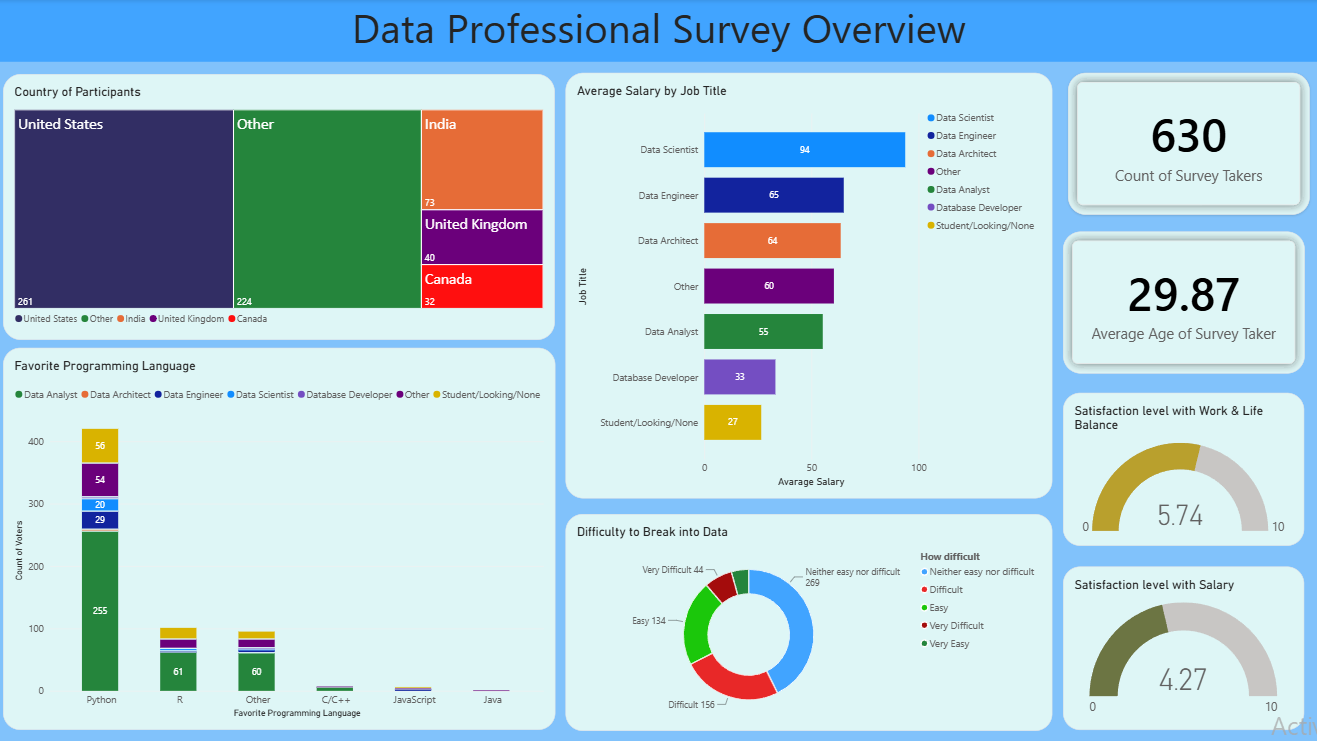

The dashboard page shown, as its layout file describes it:
{"tool":"powerbi","page":{"name":"Survey Overview","canvas":[1920,1080],"ordinal":0},"visuals":[{"type":"textbox","box":[0,0,1920.5,91.5],"z":0},{"type":"cardVisual","fields":{"Data":["Count(Data Professional Survey.Unique ID)"]},"box":[1554.3,107.9,351.4,206.4],"z":1000},{"type":"cardVisual","fields":{"Data":["Avg(Data Professional Survey.Q10 - Current Age)"]},"box":[1547.9,337.9,351,206],"z":2000},{"type":"barChart","title":"Average Salary by Job Title","fields":{"Category":["Data Professional Survey.Q1 - Which Title Best Fits your Current Role?.1"],"Series":["Data Professional Survey.Q1 - Which Title Best Fits your Current Role?.1"],"Y":["Avg(Data Professional Survey.Avarage Salary)"]},"box":[824.9,108,707,618.7],"z":3000},{"type":"columnChart","title":"Favorite Programming Language","fields":{"Category":["Data Professional Survey.Q5 - Favorite Programming Language.1"],"Series":["Data Professional Survey.Q1 - Which Title Best Fits your Current Role?.1"],"Y":["CountNonNull(Data Professional Survey.Unique ID)"]},"box":[7.5,507.5,802.5,555],"z":4000},{"type":"treemap","title":"Country of Participants","fields":{"Group":["Data Professional Survey.Q11 - Which Country do you live in?.1"],"Values":["CountNonNull(Data Professional Survey.Q11 - Which Country do you live in?.1)"]},"box":[7.5,108.3,801.7,386.7],"z":5000},{"type":"gauge","title":" Satisfaction level with Work & Life Balance","fields":{"MaxValue":["Max(Data Professional Survey.Q6 - How Happy are you in your Current Position with the following? (Work/Life Balance))2"],"MinValue":["Min(Data Professional Survey.Q6 - How Happy are you in your Current Position with the following? (Work/Life Balance))1"],"Y":["Avg(Data Professional Survey.Q6 - How Happy are you in your Current Position with the following? (Work/Life Balance))"]},"box":[1547.5,572.5,350,222.5],"z":6000},{"type":"gauge","title":"Satisfaction level with Salary","fields":{"MaxValue":["Max(Data Professional Survey.Q6 - How Happy are you in your Current Position with the following? (Salary))"],"MinValue":["Min(Data Professional Survey.Q6 - How Happy are you in your Current Position with the following? (Salary))"],"Y":["Avg(Data Professional Survey.Q6 - How Happy are you in your Current Position with the following? (Salary))"]},"box":[1547.5,825,350,237.5],"z":7000},{"type":"donutChart","title":"Difficulty to Break into Data","fields":{"Category":["Data Professional Survey.Q7 - How difficult was it for you to break into Data?"],"Y":["CountNonNull(Data Professional Survey.Q7 - How difficult was it for you to break into Data?)"]},"box":[825,747.5,707.5,315],"z":8000}]}

Visuals, with their boxes in screenshot pixels (x1, y1, x2, y2), scaled from the page's 1920x1080 canvas onto the 1317x741 screenshot:
textbox: (left=0, top=0, right=1316, bottom=63)
cardVisual - Count(Data Professional Survey.Unique ID): (left=1066, top=74, right=1307, bottom=216)
cardVisual - Avg(Data Professional Survey.Q10 - Current Age): (left=1062, top=232, right=1303, bottom=373)
"Average Salary by Job Title" barChart: (left=566, top=74, right=1051, bottom=499)
"Favorite Programming Language" columnChart: (left=5, top=348, right=556, bottom=729)
"Country of Participants" treemap: (left=5, top=74, right=555, bottom=340)
" Satisfaction level with Work & Life Balance" gauge: (left=1061, top=393, right=1302, bottom=545)
"Satisfaction level with Salary" gauge: (left=1061, top=566, right=1302, bottom=729)
"Difficulty to Break into Data" donutChart: (left=566, top=513, right=1051, bottom=729)
